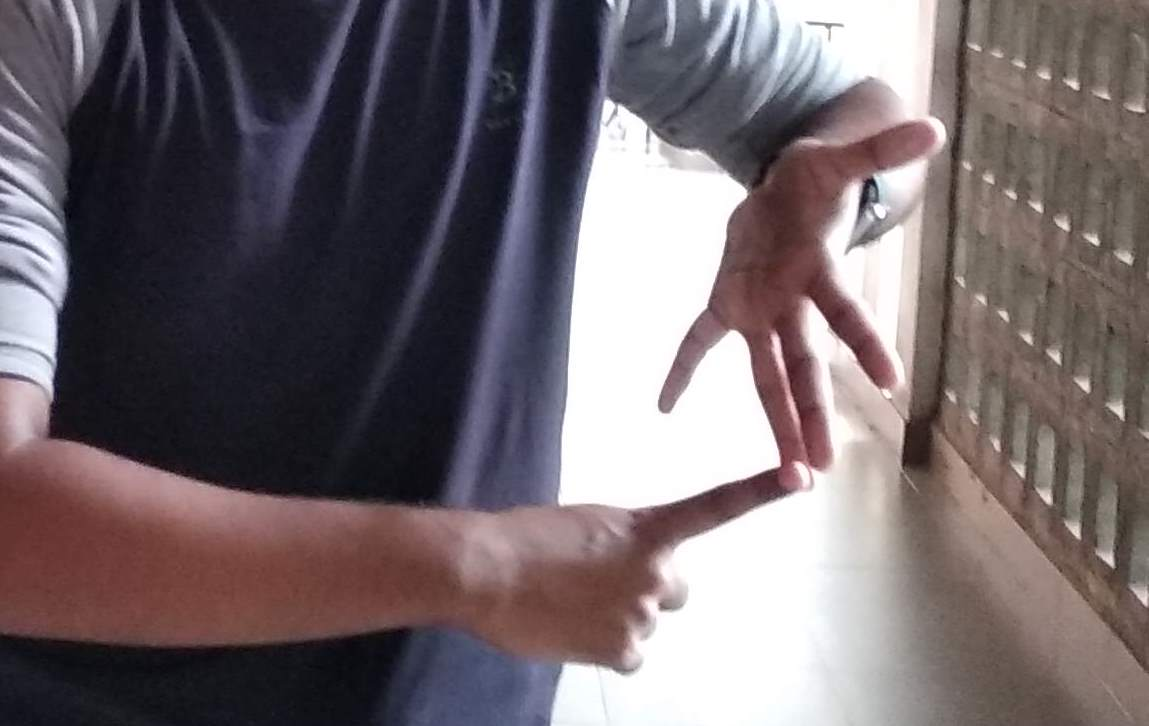e: (606, 273, 939, 614)
